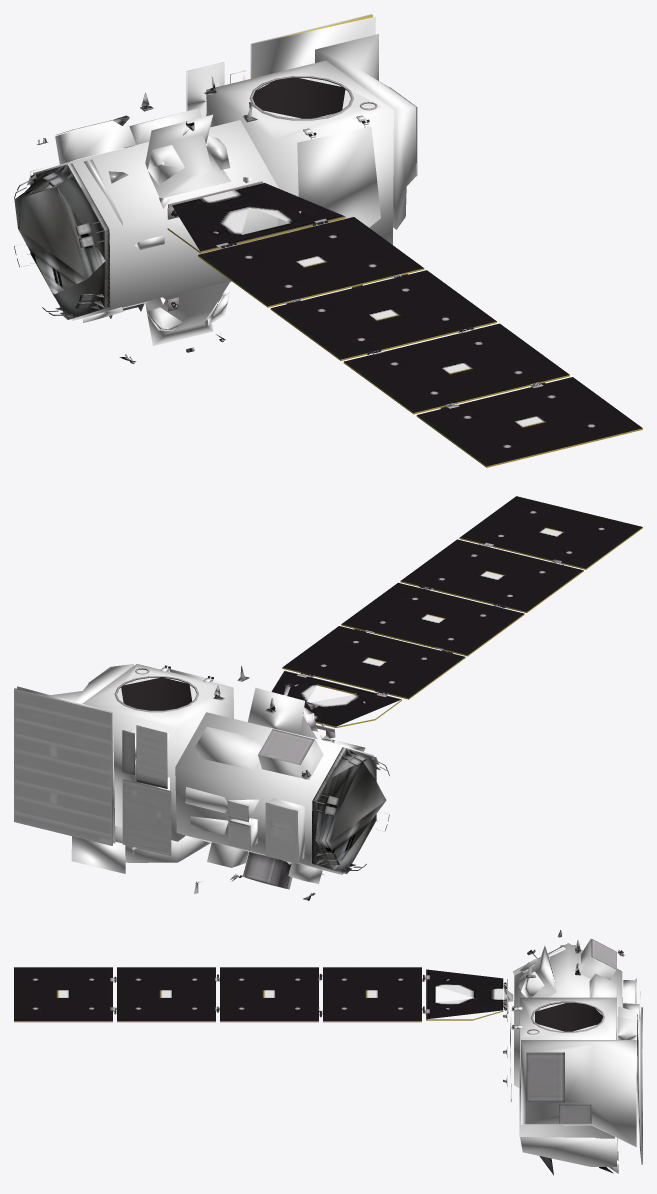
The model's file is icesat-2-b.glb.
3 views of the same model, one above another, from view 1: azimuth 30°, elevation 25°; view 2: azimuth 150°, elevation 25°; view 3: azimuth 270°, elevation 25° (orthographic). The views are drawn at different scales.
Visible parts, largest first — view 1: instruments, BUS, Atlas scope; view 2: instruments, BUS, Atlas scope; view 3: instruments, BUS, Atlas scope.
Part boxes in pixels (left/top/right/bottom): instruments: left=14, top=14, right=642, bottom=466; BUS: left=33, top=16, right=416, bottom=361; Atlas scope: left=167, top=15, right=642, bottom=467; instruments: left=14, top=496, right=642, bottom=900; BUS: left=17, top=664, right=373, bottom=899; Atlas scope: left=114, top=527, right=642, bottom=738; instruments: left=14, top=930, right=642, bottom=1175; BUS: left=504, top=939, right=641, bottom=1173; Atlas scope: left=14, top=974, right=604, bottom=1086.
Bounding box in the file's own units: 3.62 × 2.27 × 7.34.
3 materials, 3 textured.
